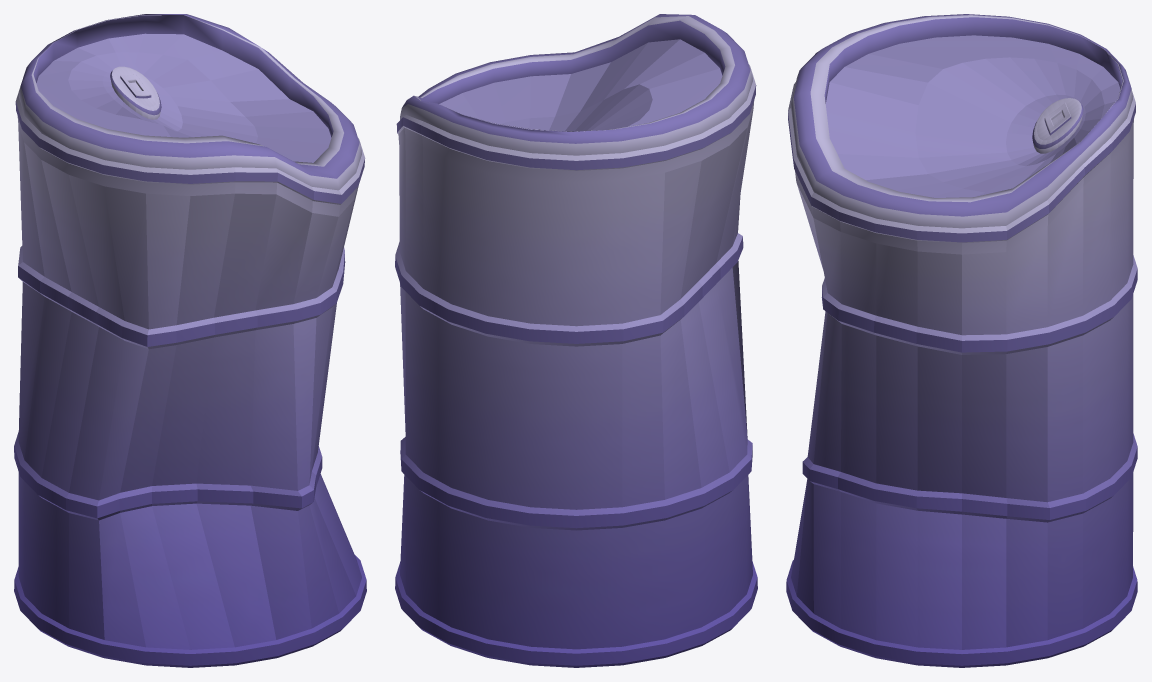
Rendered from Barrel 2.fbx.
3 views of the same model, side by side, from view 1: azimuth 30°, elevation 25°; view 2: azimuth 150°, elevation 25°; view 3: azimuth 270°, elevation 25° (orthographic). The views are drawn at different scales.
Visible parts, largest first — view 1: MDL_Barrell.007; view 2: MDL_Barrell.007; view 3: MDL_Barrell.007.
Part boxes in pixels (left/top/right/bottom): MDL_Barrell.007: left=14, top=14, right=366, bottom=667; MDL_Barrell.007: left=395, top=14, right=757, bottom=667; MDL_Barrell.007: left=786, top=14, right=1137, bottom=667.
Bounding box in the file's own units: 209 × 338 × 209.
